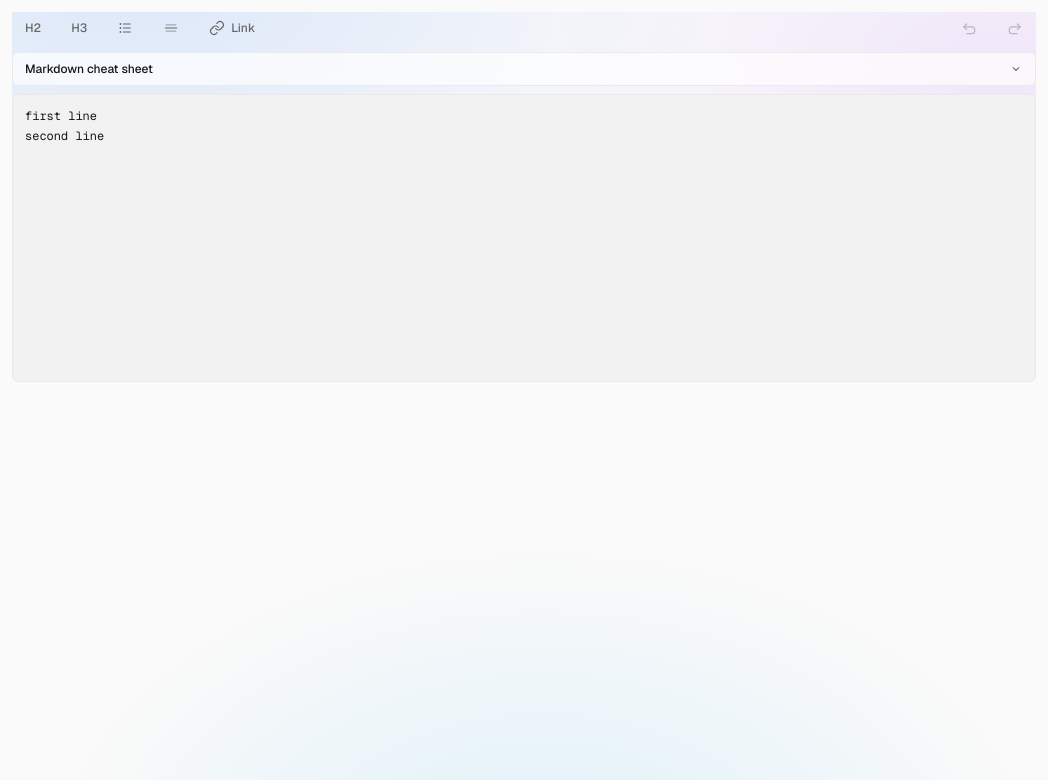
Scenario: MarkdownEditor › joins a selection spanning lines into one label, the only shape a link has
What coordinates should you click on to do the following:
click the button "Link"
I would click on:
 (232, 28)
Its box is [196,12,268,44].
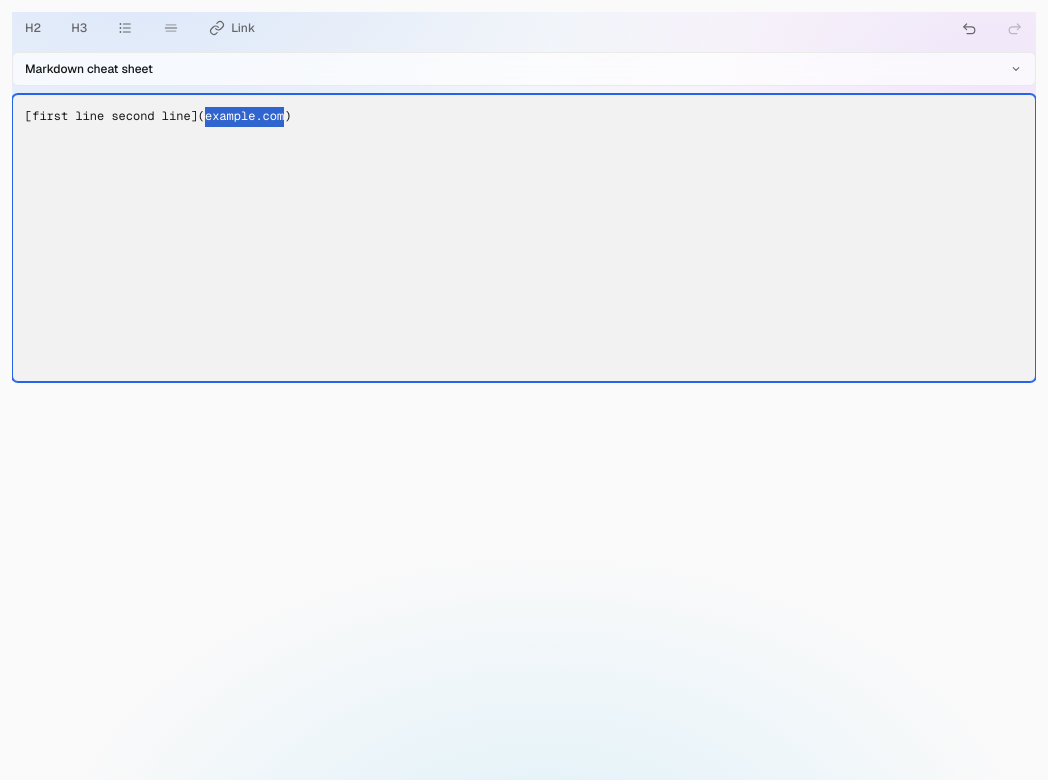
expect the text box named "resume markdown" holds "[first line second line](example.com)": met, box [12,94,1036,382]
